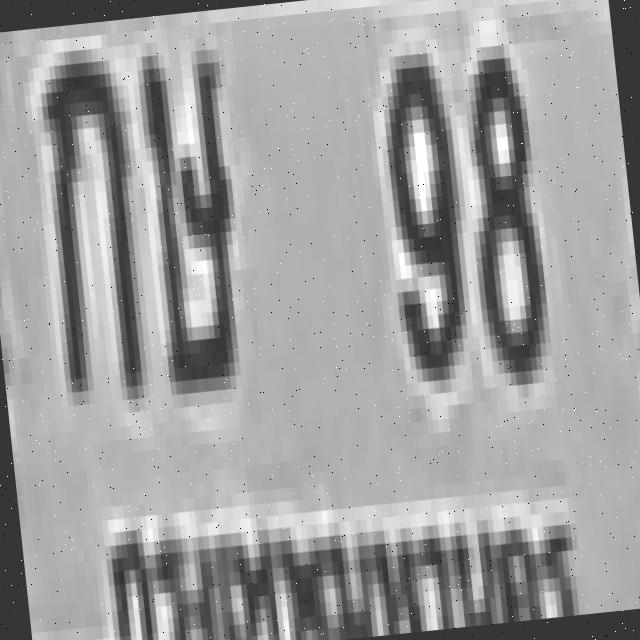10GorGai: (29, 34, 148, 392)
48SorRueSi: (128, 36, 245, 382)
8: (454, 43, 548, 374)
9: (371, 38, 470, 370)
